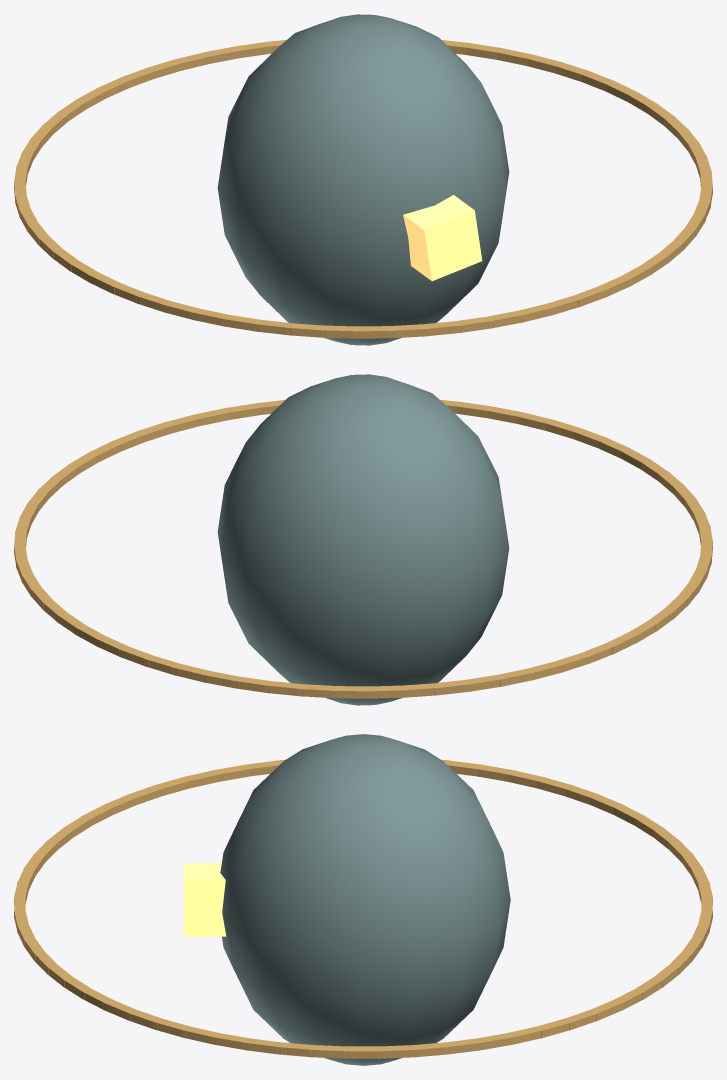
File: machine.gltf
3 views of the same model, one above another, from view 1: azimuth 30°, elevation 25°; view 2: azimuth 150°, elevation 25°; view 3: azimuth 270°, elevation 25° (orthographic).
Parts seen in each view (by area): view 1: core, base; view 2: core, base; view 3: core, base.
Part boxes in pixels (x1,y1,x2,y2): core: (217,14,509,345); base: (14,40,712,338); core: (217,374,509,705); base: (14,400,712,698); core: (183,734,510,1065); base: (14,759,712,1058).
Bounding box in the file's own units: 2.14 × 1.04 × 2.14.
